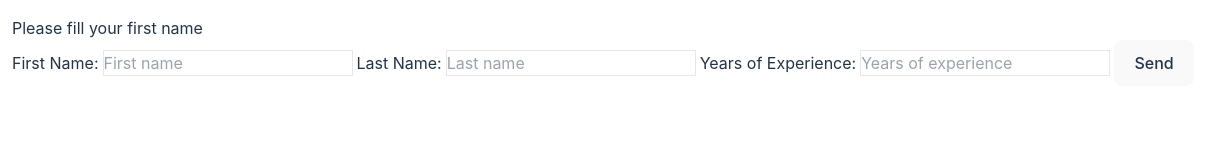
Test: <ControlledForm /> › should handle inputs and show the success message
Expected: the text "Please fill your first name" is shown, [12,18,203,38]
Step 1. Type "Luis" into the field labelled "First Name:" → (228, 63), box [102,50,352,76]
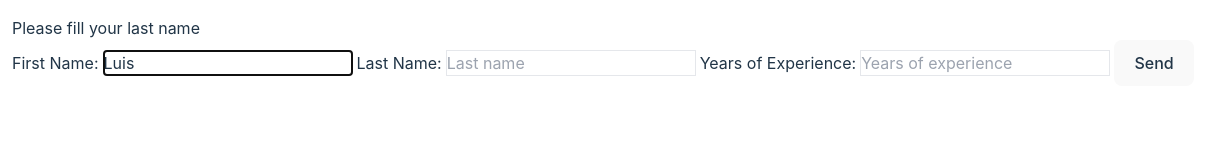
Expected: the text "Please fill your last name" is shown, [12,18,200,38]
Step 2. Type "Andres" into the field labelled "Last Name:" → (571, 63), box [446,50,696,76]
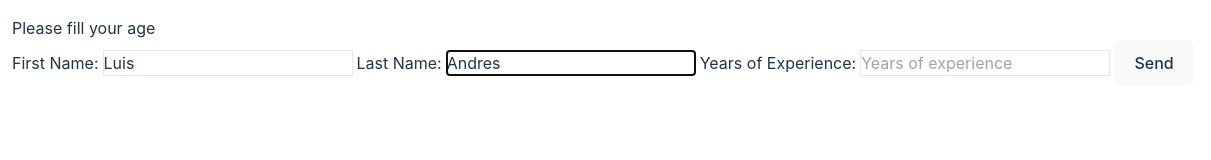
Expected: the text "Please fill your age" is shown, [12,18,155,38]
Step 3. Type "5" into the number field labelled "Years of Experience:" → (985, 63), box [860,50,1110,76]
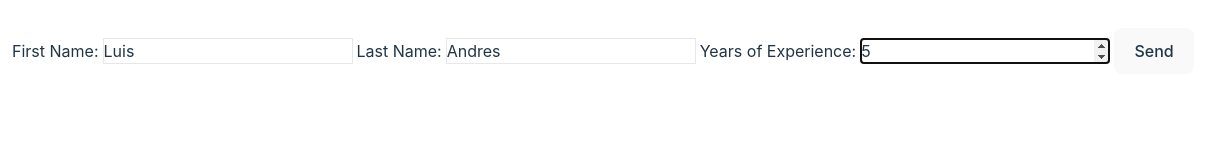
# click event
Step 4. Click the button "Send" → (1154, 51), box [1114,28,1194,74]
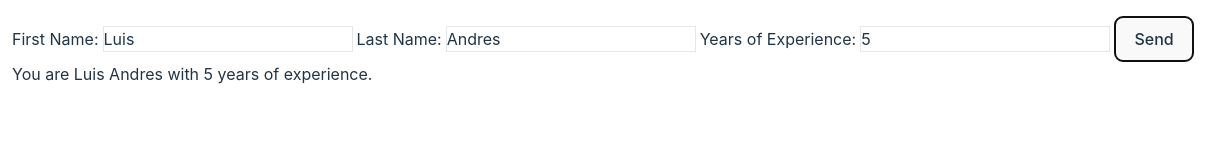
Expected: the text "You are Luis Andres with 5 years of experience." is shown, [12,64,372,84]
